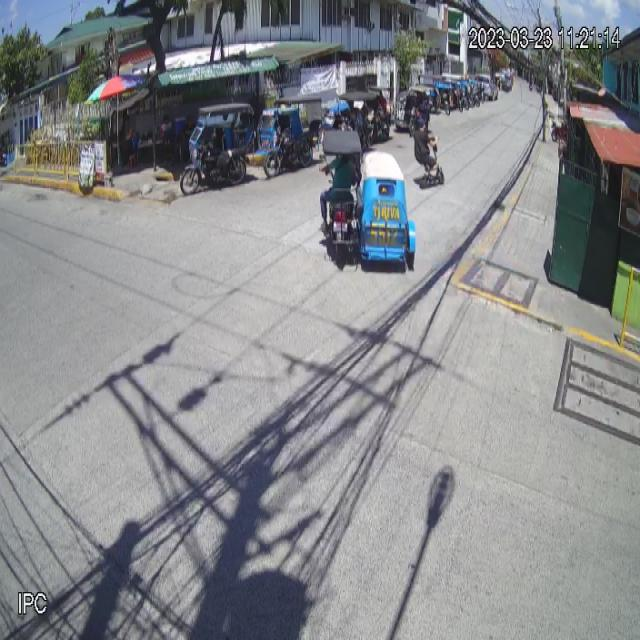Tricycle: (318, 128, 417, 268), (179, 100, 256, 196)
